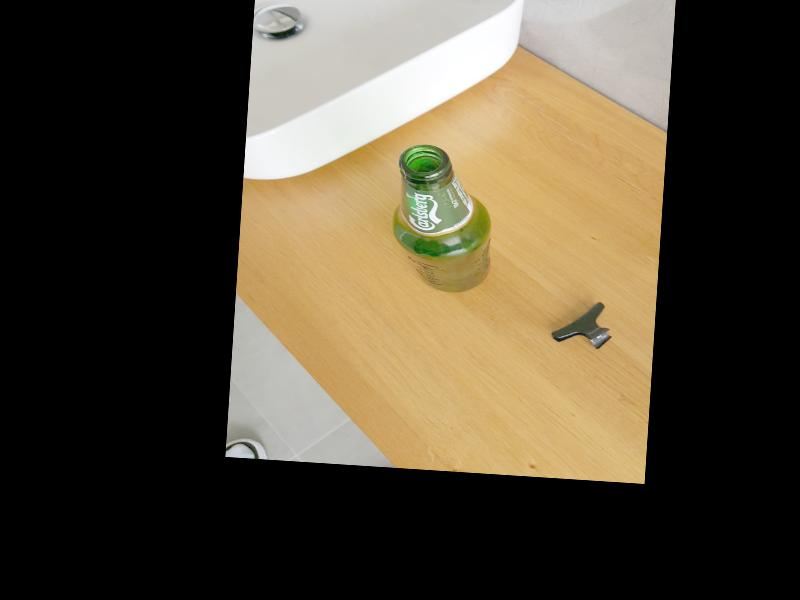Beer: (389, 144, 495, 296)
